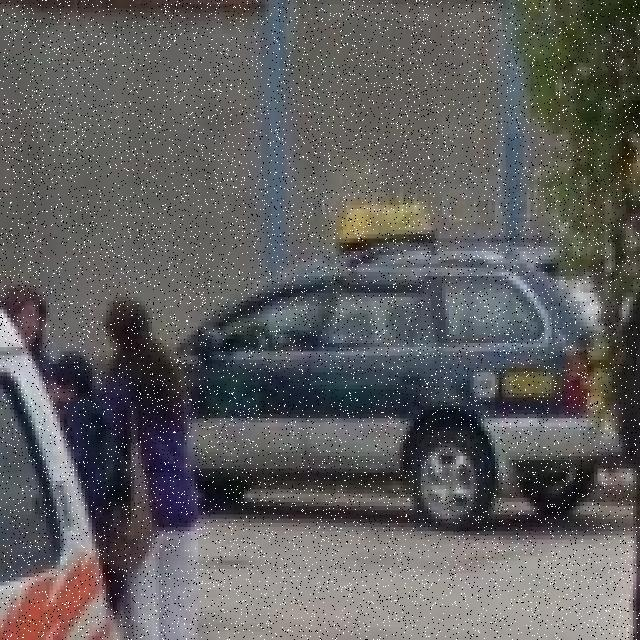cars: (145, 213, 634, 547)
